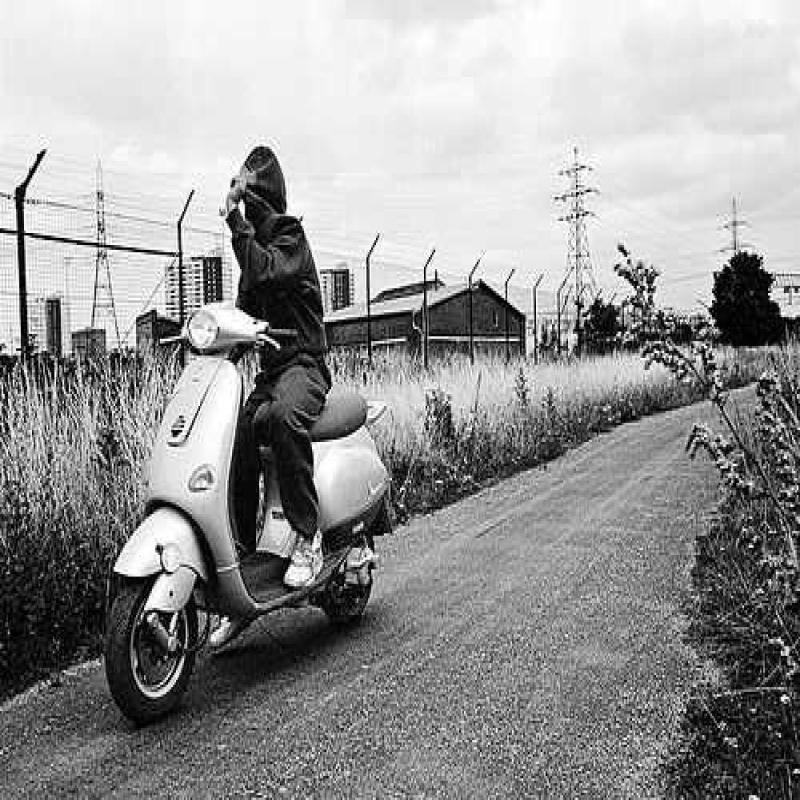bike: (82, 302, 392, 715)
